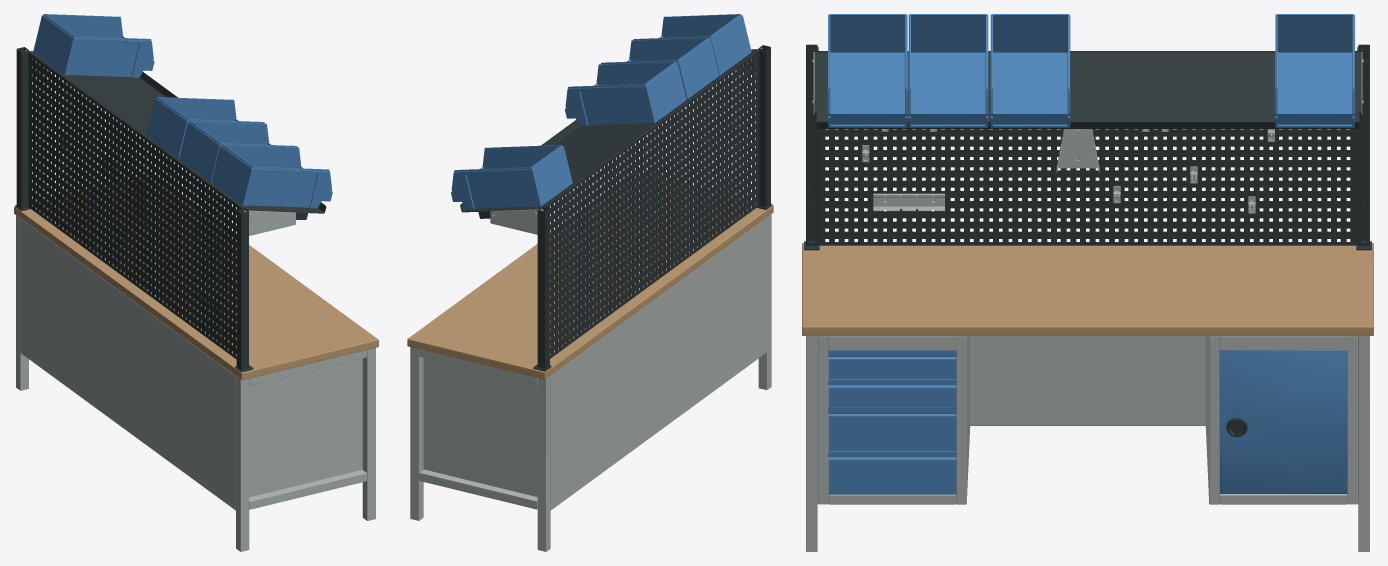
The model's file is furniture_workbench_standard_e01.glb.
The picture shows the model from 3 angles, left to right: view 1: azimuth 30°, elevation 25°; view 2: azimuth 150°, elevation 25°; view 3: azimuth 270°, elevation 25°; orthographic projection. The views are drawn at different scales.
Visible parts, largest first — view 1: furniture_workbench_standard_e01; view 2: furniture_workbench_standard_e01; view 3: furniture_workbench_standard_e01.
Part boxes in pixels (x1=…): furniture_workbench_standard_e01: x1=14, y1=14, x2=378, y2=551; furniture_workbench_standard_e01: x1=407, y1=14, x2=773, y2=551; furniture_workbench_standard_e01: x1=802, y1=14, x2=1373, y2=551.
Size of the model in its own units: 0.5331 by 1.38 by 1.53.
